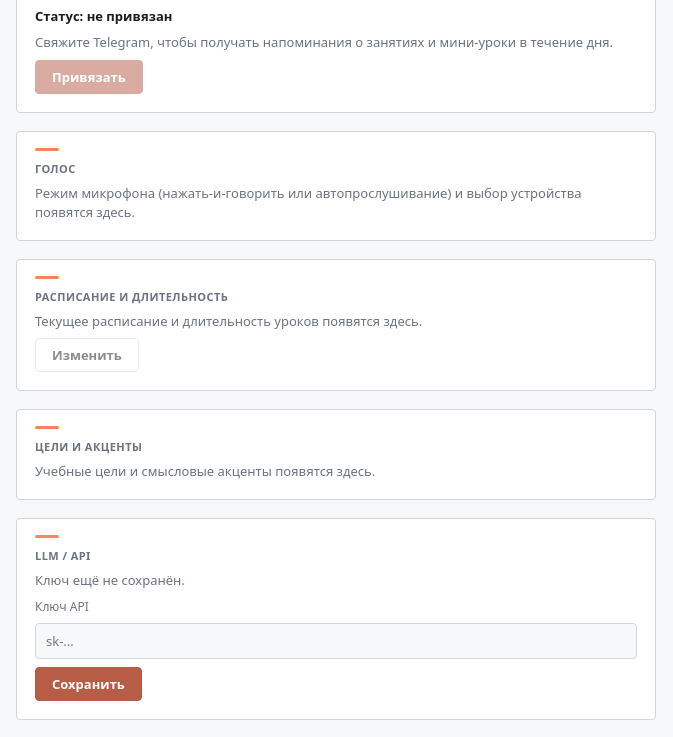
SettingsView — sections shell + explicit save › saves a non-empty key via PUT, masks the field again, and never autosaves on keystroke
(page scrolled)
Type "sk-test-key-0001" into the password field with id "llm-api-key" at x=336, y=641, box [35,623,637,659]
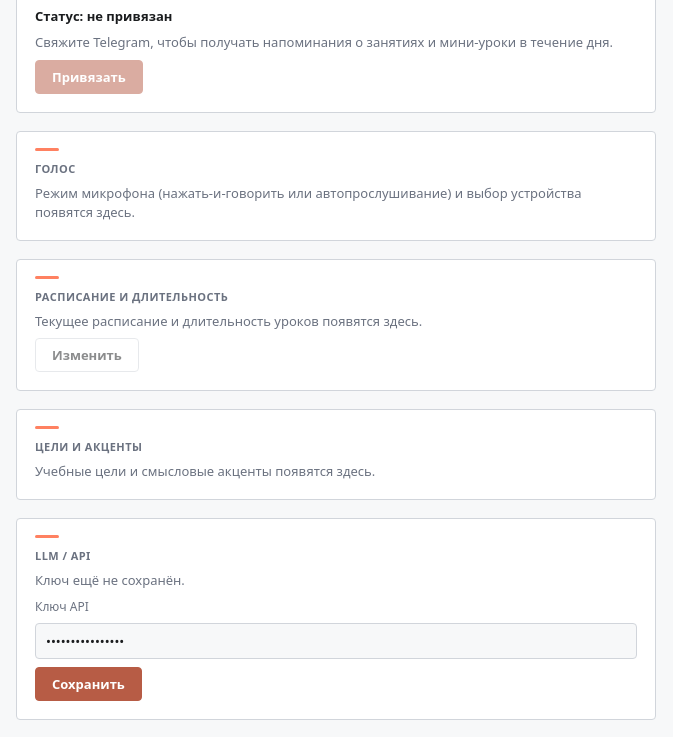
Click the button with test id "save-llm-button" at x=88, y=684, box [35,667,142,701]
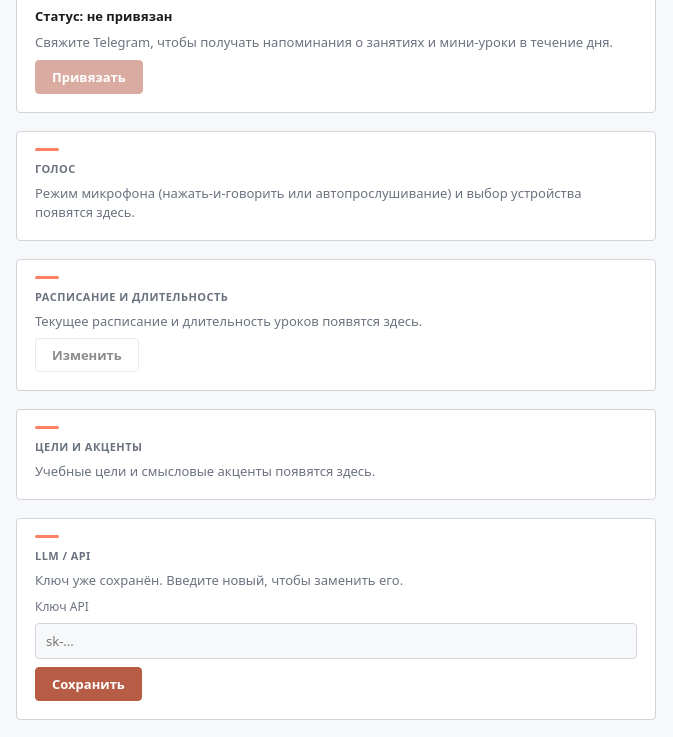
Check: the password field with id "llm-api-key" is empty, box [35,623,637,659]
Check: the text "Ключ уже сохранён. Введите новый, чтобы заменить его." is shown, box [35,571,403,589]
